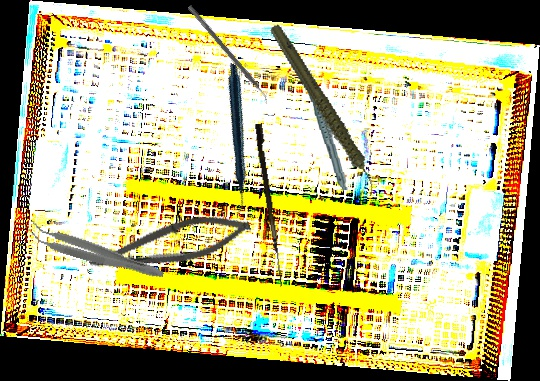Handpiece: (267, 10, 379, 211), (163, 62, 307, 215), (306, 67, 349, 193)
Hook Surgical: (251, 123, 291, 287)
Micro Scissor: (85, 200, 255, 291)
Spatula Surgical: (183, 4, 273, 106)
Tissue Forceps: (24, 219, 168, 284)
